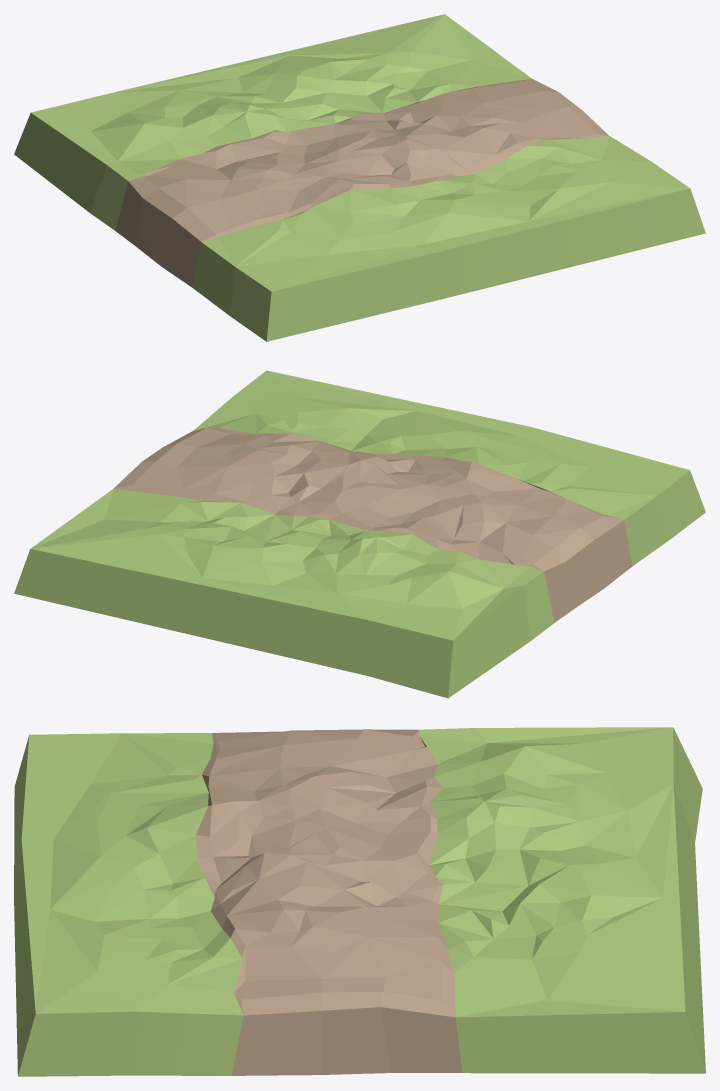
File: floating_meadow_path.glb
3 renders of one model, top to bottom at view 1: azimuth 30°, elevation 25°; view 2: azimuth 150°, elevation 25°; view 3: azimuth 270°, elevation 25°, orthographic. The views are drawn at different scales.
Parts seen in each view (by area): view 1: PP_Meadow_Path_05; view 2: PP_Meadow_Path_05; view 3: PP_Meadow_Path_05.
Part boxes in pixels (x1,y1,x2,y2): PP_Meadow_Path_05: [14, 14, 705, 341]; PP_Meadow_Path_05: [14, 370, 705, 698]; PP_Meadow_Path_05: [14, 727, 705, 1076].
Bounding box in the file's own units: 22.75 × 3.33 × 22.85.
